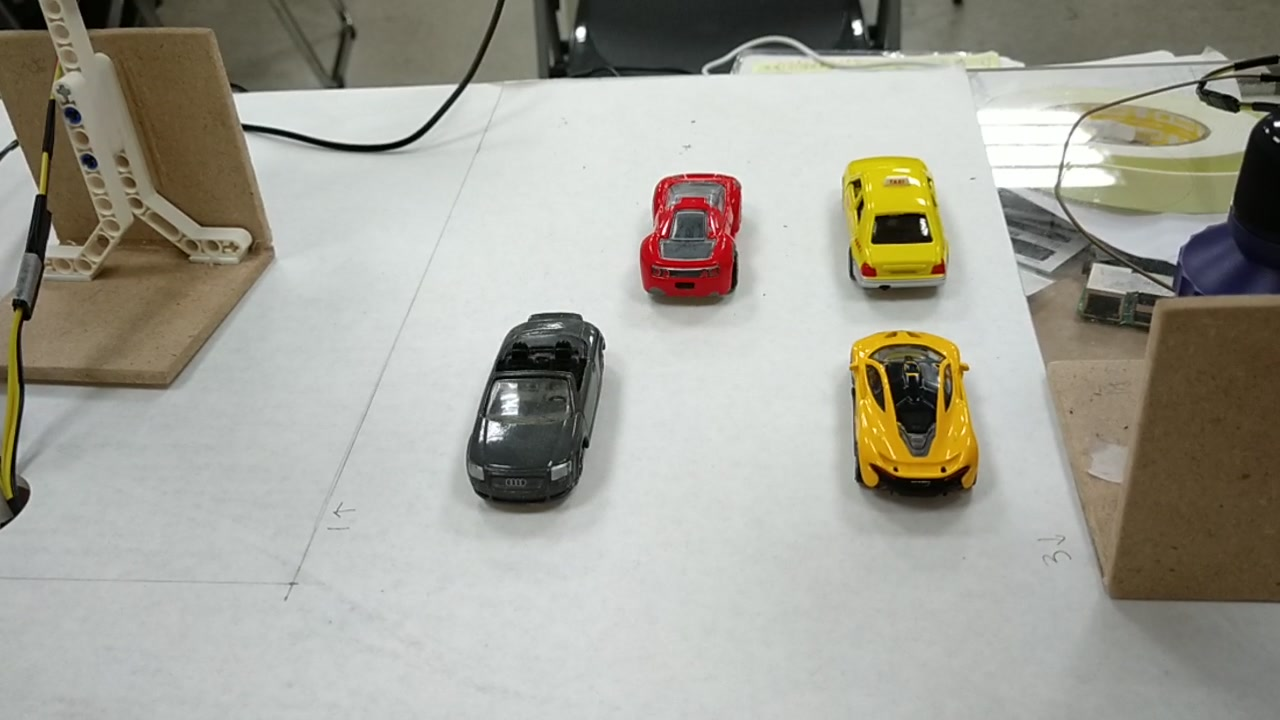car: (466, 314, 613, 500), (859, 336, 973, 485), (638, 172, 750, 308), (848, 151, 939, 296)
